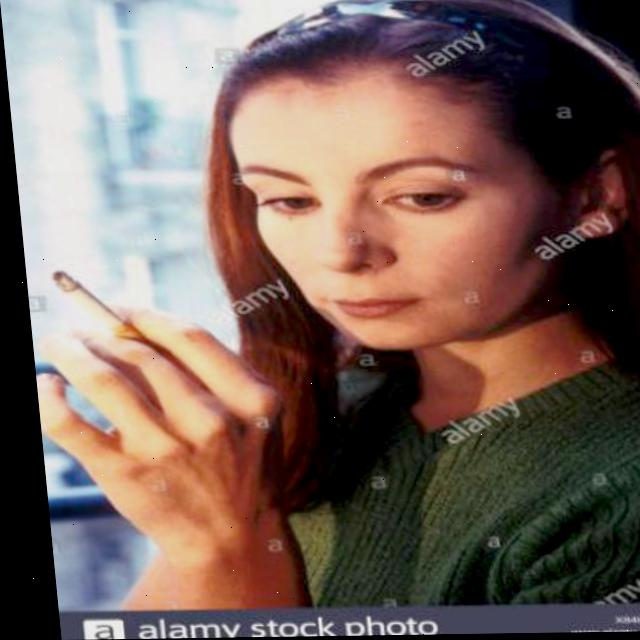cigarette: (37, 263, 133, 345)
